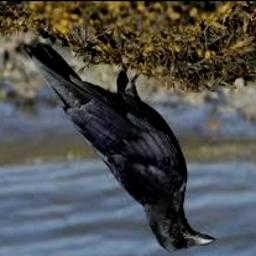Crow: (23, 42, 214, 253)
